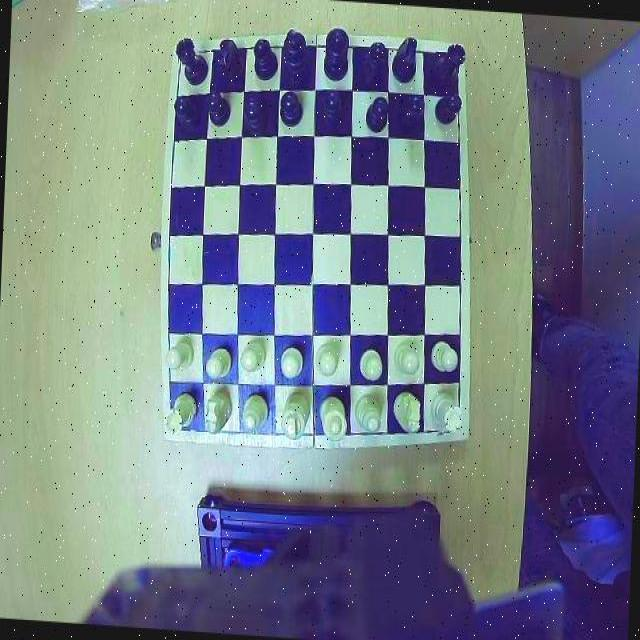chess-table-corners: (436, 408, 470, 441), (166, 414, 197, 442), (435, 46, 463, 74), (174, 38, 200, 68)
